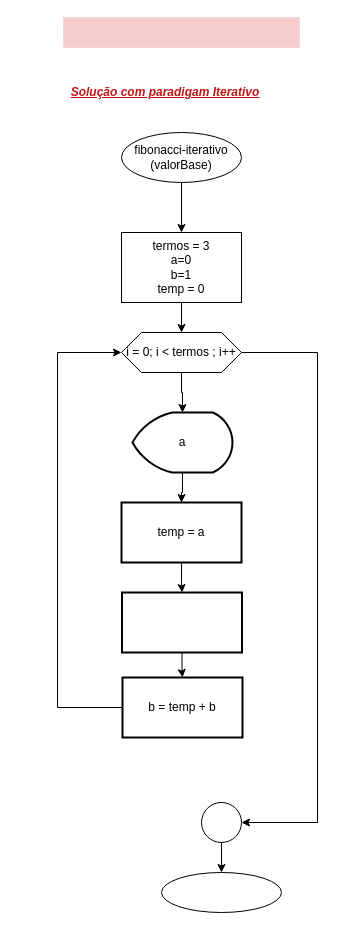
Image size: 343x930. Some labels were removed from this diagram. Each missing label, with the centre of its shape:
"a = b" belongs at point 181,622.
"fim" belongs at point 221,892.
"Solução: Fibonacci" belongs at point 181,32.
